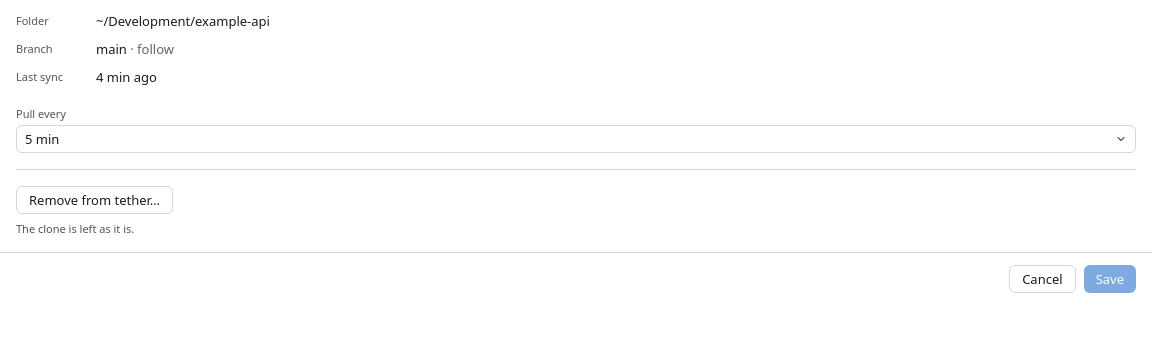
Test: RepoSettings › confirms a removal in a plain callout
Click the button "Remove from tether…".
click(95, 200)  # box 16,186 -> 173,214
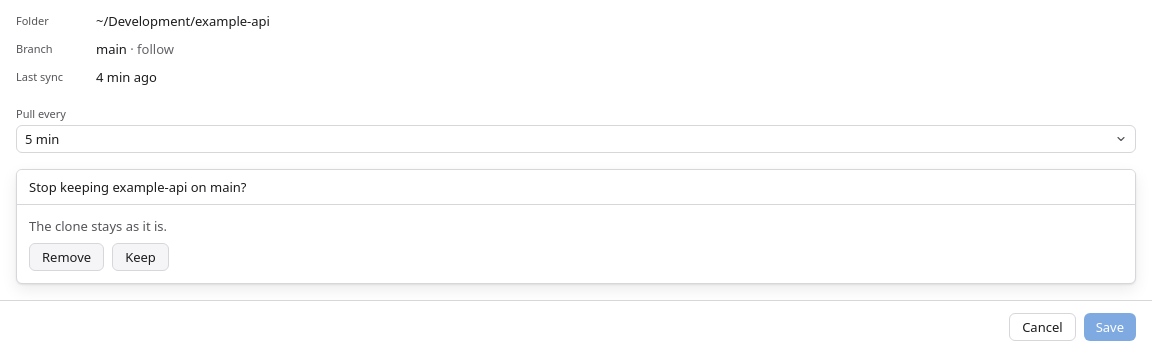
Expected: the text "The clone stays as it is." is shown, 29,217 -> 167,235
Expected: the button "Remove from tether…" is gone
